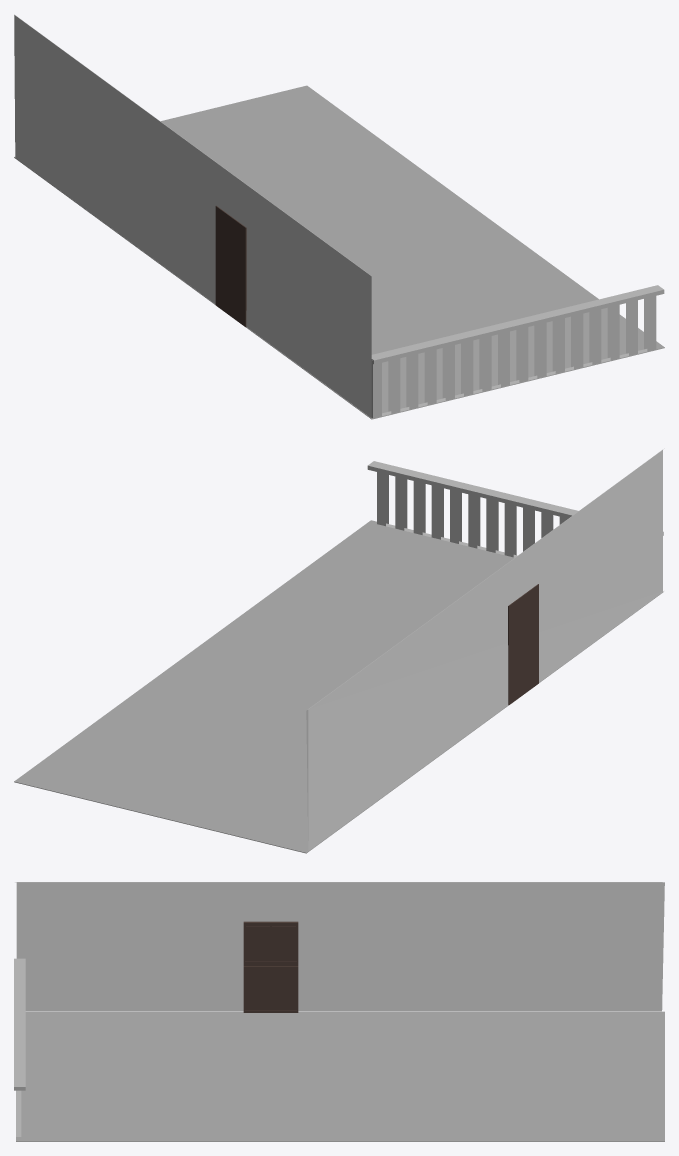
Rendered from RetroDib.glb.
The picture shows the model from 3 angles, top to bottom: view 1: azimuth 30°, elevation 25°; view 2: azimuth 150°, elevation 25°; view 3: azimuth 270°, elevation 25°; orthographic projection. The views are drawn at different scales.
Parts seen in each view (by area): view 1: Pavimento, Porta; view 2: Pavimento, Porta; view 3: Pavimento, Porta.
Part boxes in pixels (x1,y1,x2,y2): Pavimento: (14,14,664,419); Porta: (215,205,246,327); Pavimento: (14,448,664,853); Porta: (508,584,538,705); Pavimento: (14,882,664,1141); Porta: (243,921,298,1012).
Size of the model in its own units: 3.48 by 1.62 by 7.36.
